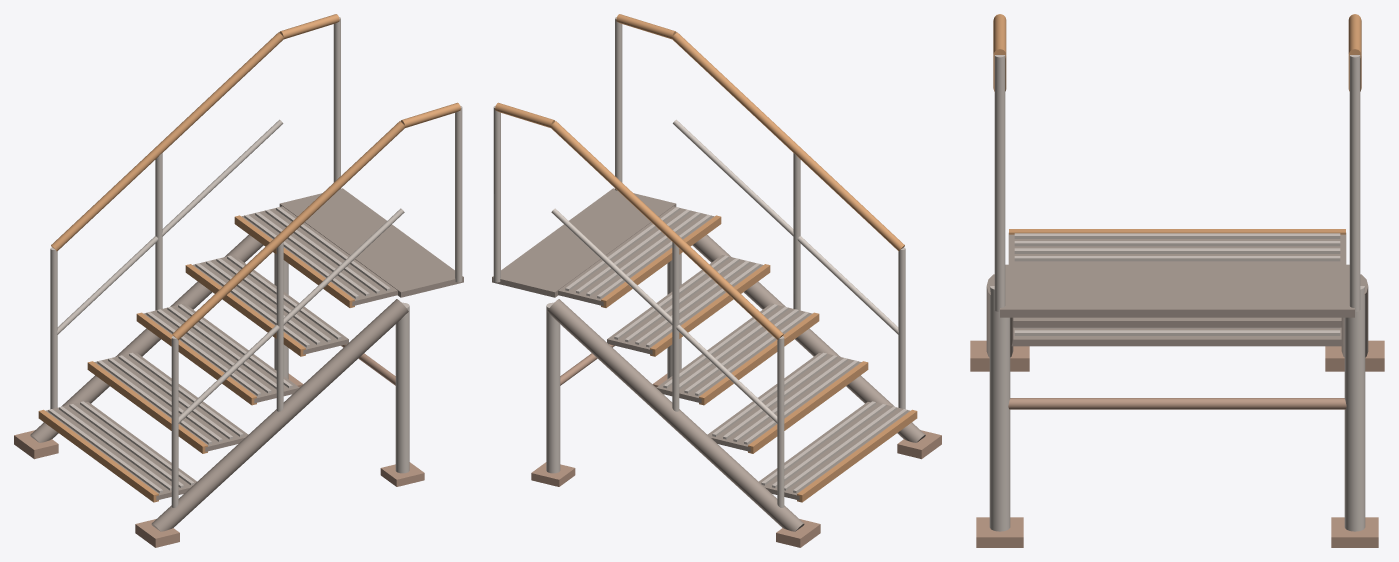
The model's file is P07_stairs_5steps.glb.
3 renders of one model, left to right at view 1: azimuth 30°, elevation 25°; view 2: azimuth 150°, elevation 25°; view 3: azimuth 270°, elevation 25°, orthographic. The views are drawn at different scales.
Parts seen in each view (by area): view 1: stringer, support_post, handrail, foot_plate; view 2: stringer, support_post, handrail, foot_plate; view 3: stringer, support_post, foot_plate, handrail.
Part boxes in pixels (left/top/right/bottom): stringer: left=30, top=188, right=463, bottom=531; support_post: left=48, top=17, right=462, bottom=507; handrail: left=38, top=14, right=460, bottom=502; foot_plate: left=14, top=344, right=424, bottom=547; stringer: left=492, top=188, right=925, bottom=531; support_post: left=493, top=17, right=907, bottom=507; handrail: left=495, top=14, right=917, bottom=502; foot_plate: left=531, top=344, right=941, bottom=547; stringer: left=986, top=233, right=1368, bottom=357; support_post: left=989, top=55, right=1365, bottom=531; foot_plate: left=970, top=340, right=1384, bottom=547; handrail: left=993, top=14, right=1361, bottom=234.
Size of the model in its own units: 1.82 by 1.97 by 1.4.
